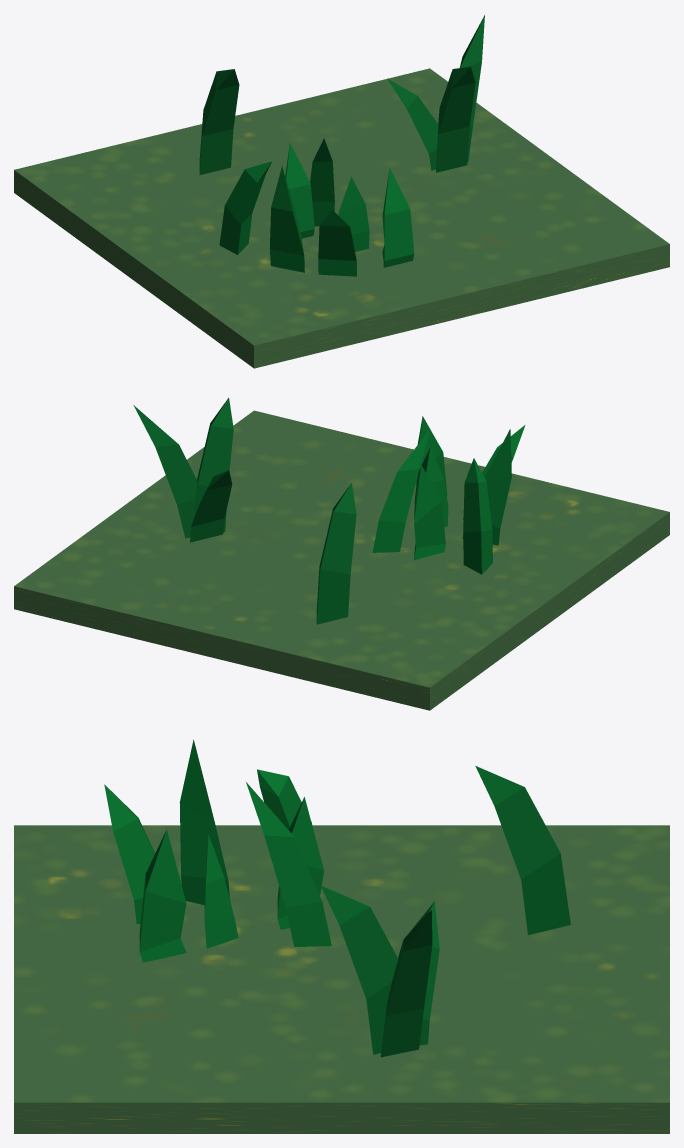
The model's file is grass_01.glb.
The picture shows the model from 3 angles, top to bottom: view 1: azimuth 30°, elevation 25°; view 2: azimuth 150°, elevation 25°; view 3: azimuth 270°, elevation 25°; orthographic projection. The views are drawn at different scales.
Visible parts, largest first — view 1: Cube, GrassBunch1, GrassBunch2, Grass1; view 2: Cube, GrassBunch1, GrassBunch2, Grass1; view 3: Cube, GrassBunch1, GrassBunch2, Grass1.
Part boxes in pixels (<box>): Cube: <box>14,68,669,368</box>; GrassBunch1: <box>219,138,414,276</box>; GrassBunch2: <box>387,15,484,172</box>; Grass1: <box>199,69,239,174</box>; Cube: <box>14,410,669,710</box>; GrassBunch1: <box>372,416,525,574</box>; GrassBunch2: <box>133,397,233,542</box>; Grass1: <box>316,483,356,624</box>; Cube: <box>14,825,669,1133</box>; GrassBunch1: <box>104,739,331,962</box>; GrassBunch2: <box>320,885,439,1057</box>; Grass1: <box>475,766,570,935</box>.
Size of the model in its own units: 2 by 0.6831 by 2.
Materials: 4 (4 with a texture image).
